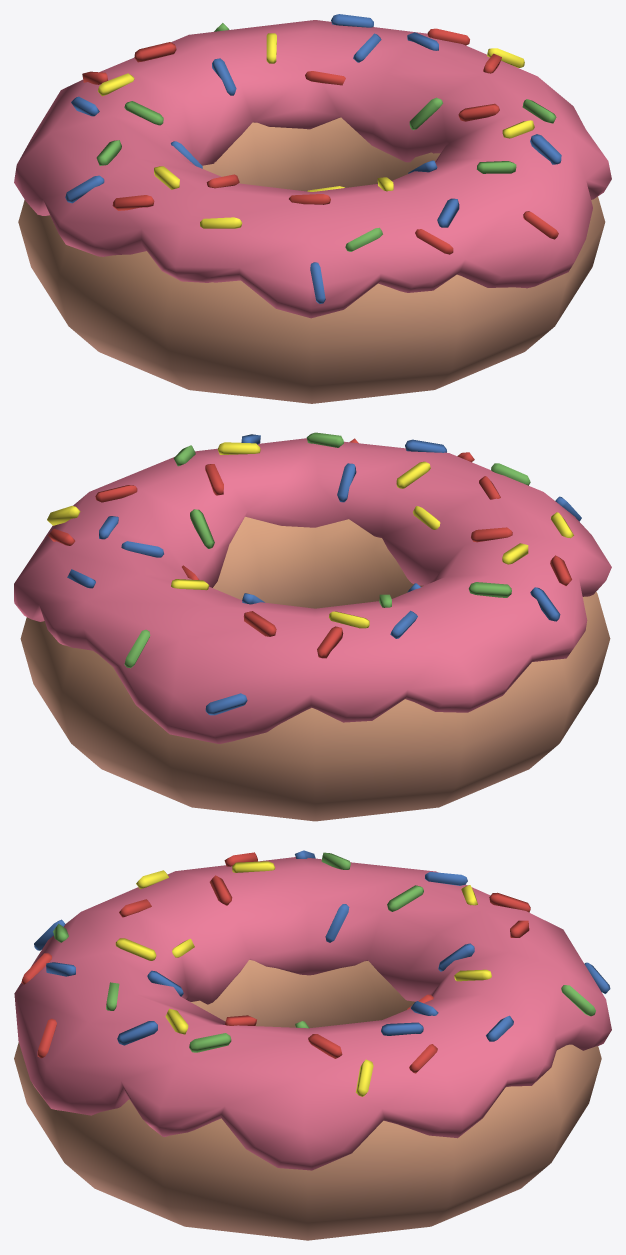
Rendered from Donut.fbx.
The picture shows the model from 3 angles, top to bottom: view 1: azimuth 30°, elevation 25°; view 2: azimuth 150°, elevation 25°; view 3: azimuth 270°, elevation 25°; orthographic projection.
Visible parts, largest first — view 1: Donut; view 2: Donut; view 3: Donut.
Part boxes in pixels (x1,y1,x2,y2): Donut: [14, 14, 611, 403]; Donut: [14, 432, 611, 821]; Donut: [14, 850, 611, 1240].
Bounding box in the file's own units: 0.1424 × 0.0535 × 0.1417.
